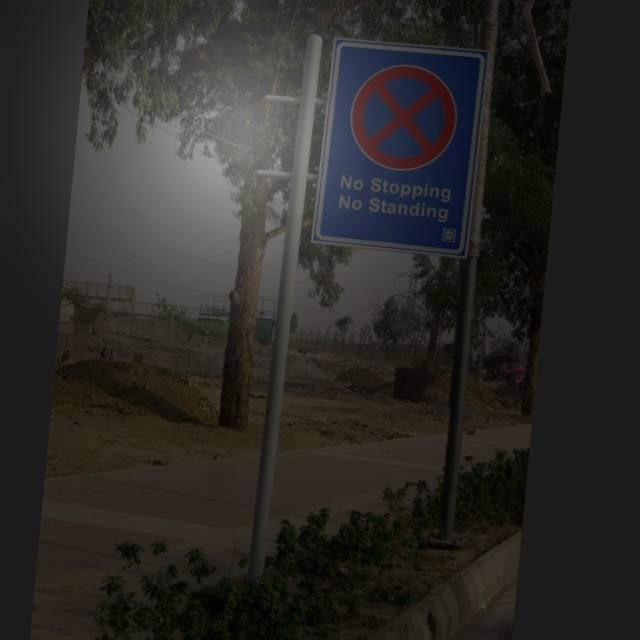No_Stopping_or_Standing: (337, 45, 468, 181)
